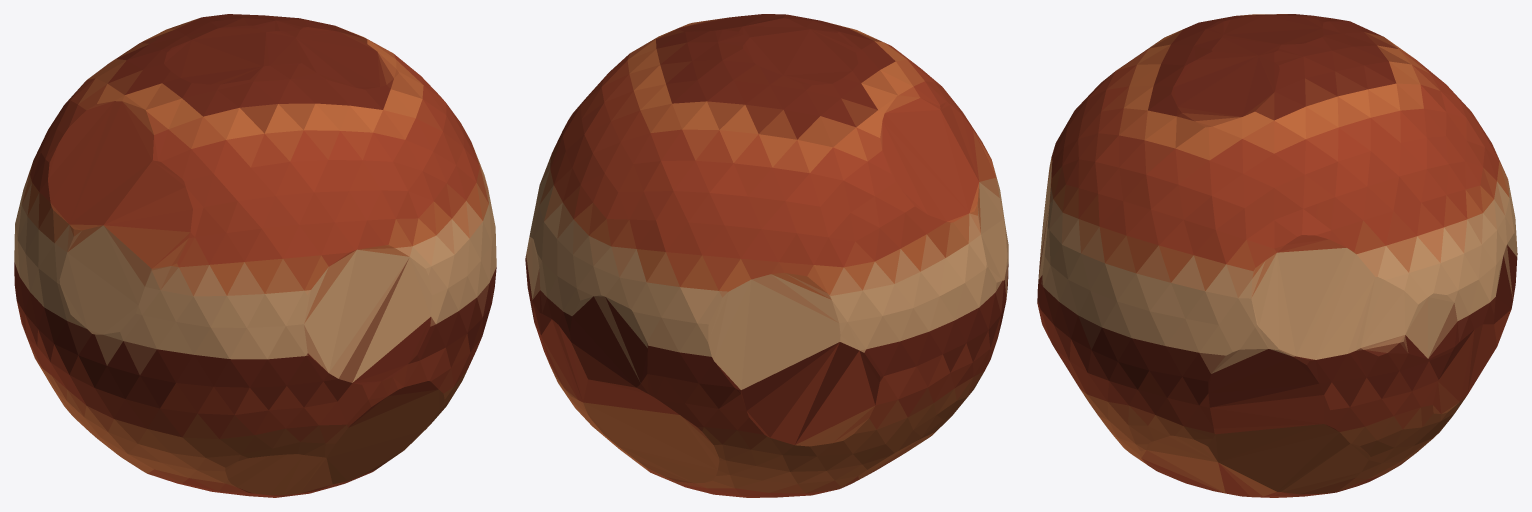
The model's file is boulder_desert.glb.
The picture shows the model from 3 angles, left to right: view 1: azimuth 30°, elevation 25°; view 2: azimuth 150°, elevation 25°; view 3: azimuth 270°, elevation 25°; orthographic projection.
Parts seen in each view (by area): view 1: shell; view 2: shell; view 3: shell.
Part boxes in pixels (x1,y1,x2,y2): shell: [14, 14, 496, 497]; shell: [525, 14, 1008, 497]; shell: [1037, 14, 1517, 497].
Bounding box in the file's own units: 1.8 × 1.78 × 1.78.
